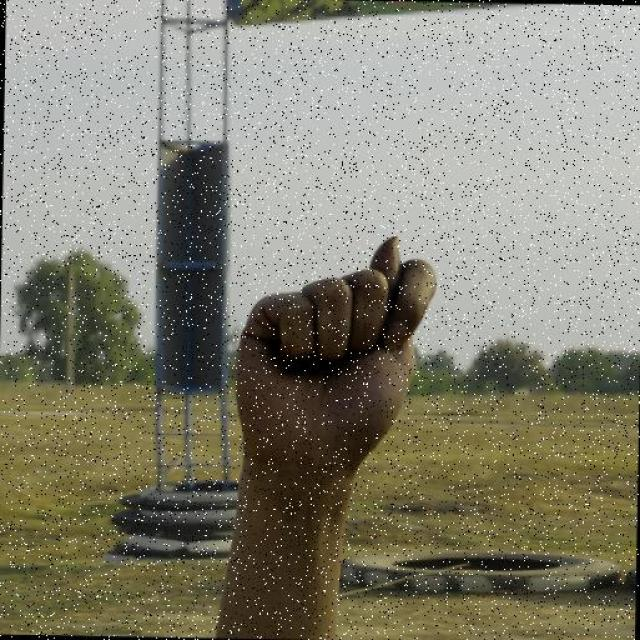T: (226, 230, 443, 480)
